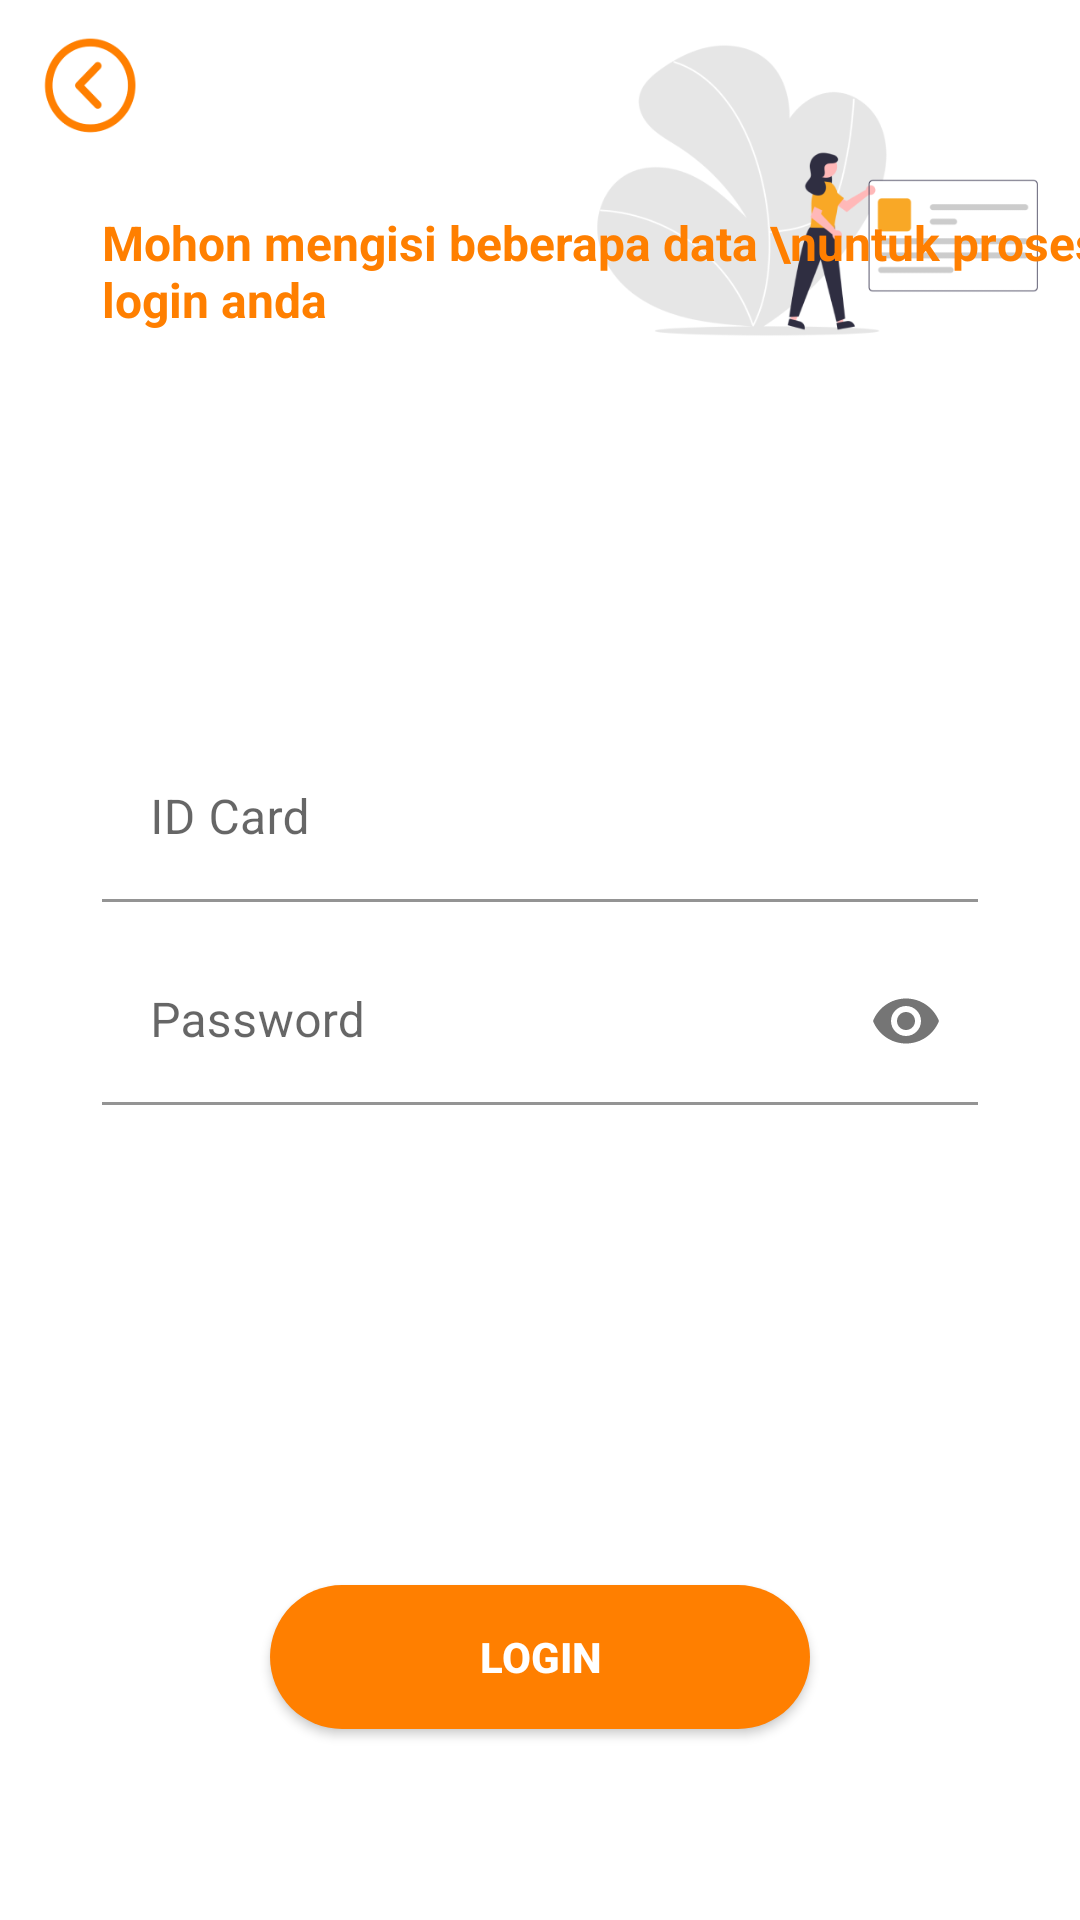

Icons on this 1080 x 1920 Android screen, each with the point to tap as (x=x, y=y):
back: (x=90, y=85)
